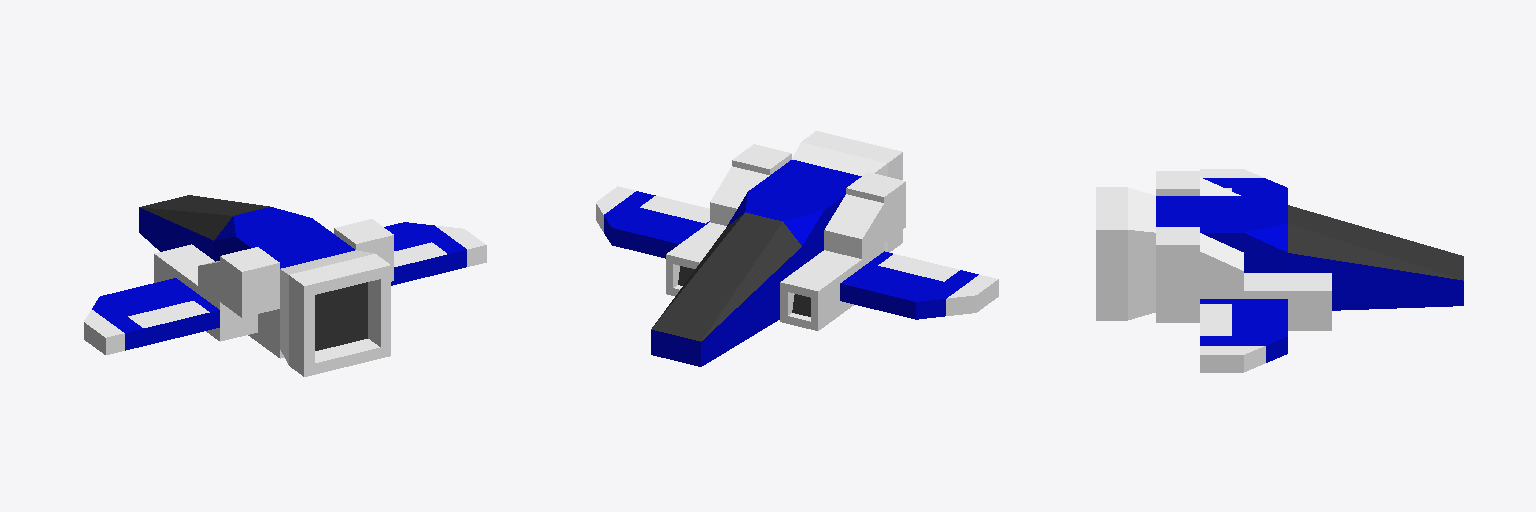
The model's file is spaceCraft3.obj.
The picture shows the model from 3 angles: view 1: azimuth 30°, elevation 25°; view 2: azimuth 150°, elevation 25°; view 3: azimuth 270°, elevation 25°; orthographic projection.
Parts seen in each view (by area): view 1: spaceCraft1; view 2: spaceCraft1; view 3: spaceCraft1.
Boxes of the visible parts, x1,y1,x2,y2 form: spaceCraft1: [84, 195, 486, 376]; spaceCraft1: [596, 131, 998, 366]; spaceCraft1: [1096, 169, 1463, 372].
Bounding box in the file's own units: 19.75 × 4.75 × 16.5.